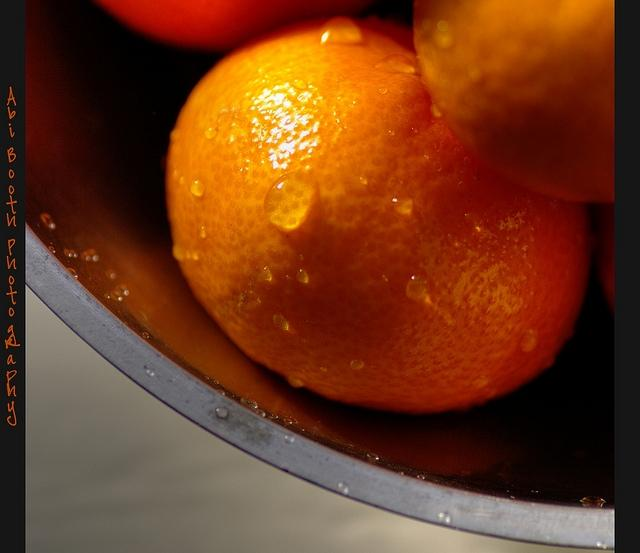orange: (167, 16, 593, 414), (412, 0, 616, 203), (97, 0, 376, 54)
